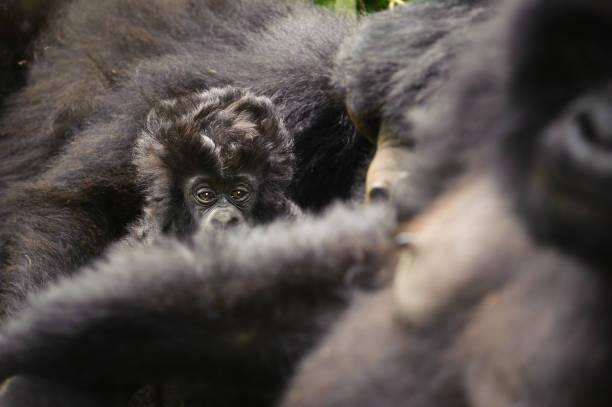goriile_montagne: (129, 66, 300, 245)
